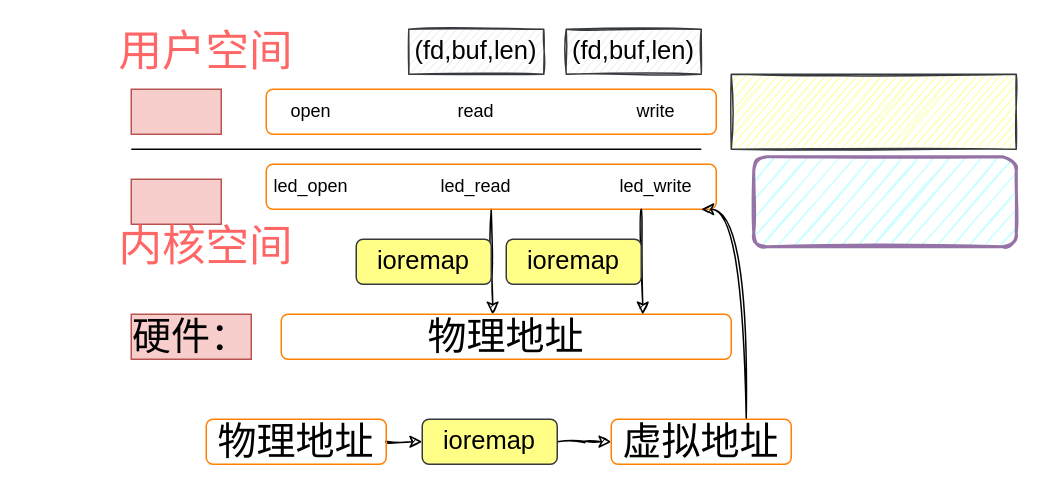
This 1043x491 diagram has some shape labels left out. Each missing label, with the box of its shape:
APP: (130, 88, 221, 134)
copy_to_user copy_from_user: (752, 154, 1017, 248)
Drv: (130, 178, 221, 224)
两个空间数据如何传递？: (730, 73, 1016, 149)
